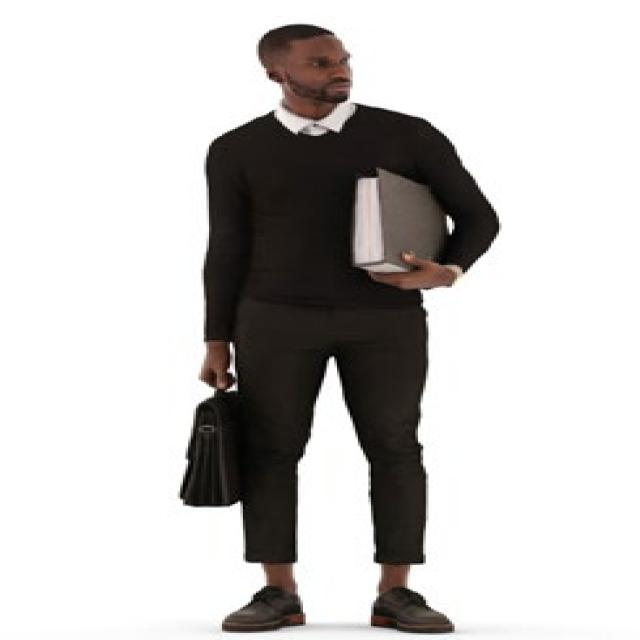standing: (175, 25, 506, 635)
